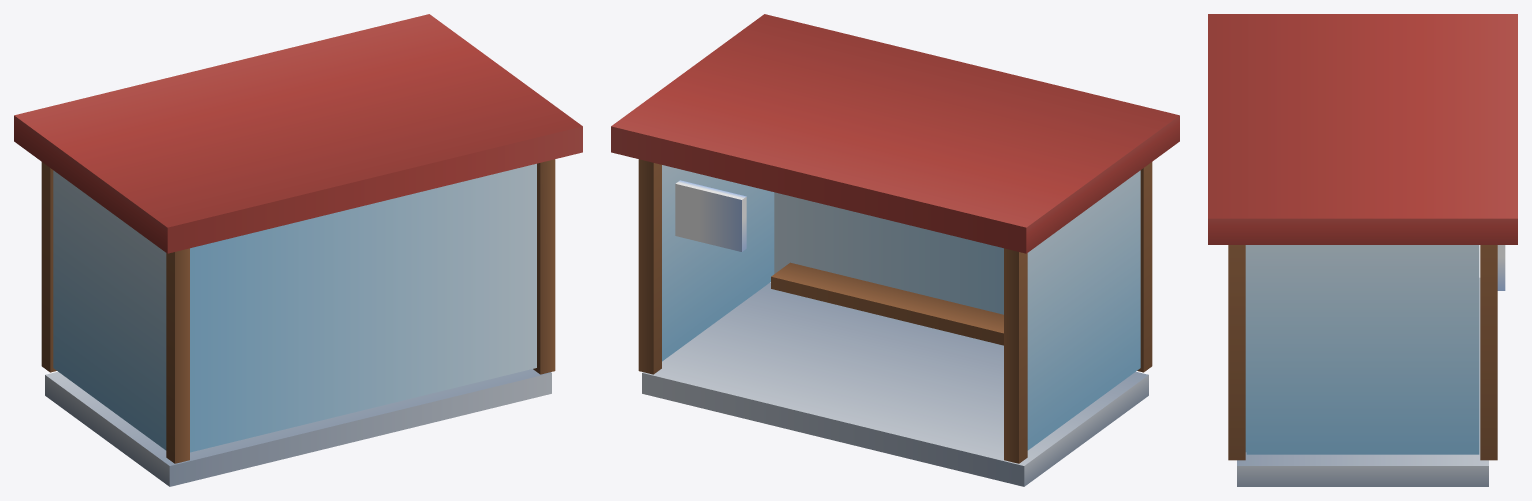
The model's file is bus_shelter.fbx.
3 renders of one model, left to right at view 1: azimuth 30°, elevation 25°; view 2: azimuth 150°, elevation 25°; view 3: azimuth 270°, elevation 25°, orthographic.
Parts seen in each view (by area): view 1: bus_shelter; view 2: bus_shelter; view 3: bus_shelter.
Part boxes in pixels (x1,y1,x2,y2): bus_shelter: (14,14,582,486); bus_shelter: (611,14,1179,486); bus_shelter: (1208,14,1517,486).
Size of the model in its own units: 1000 by 630 by 640.
